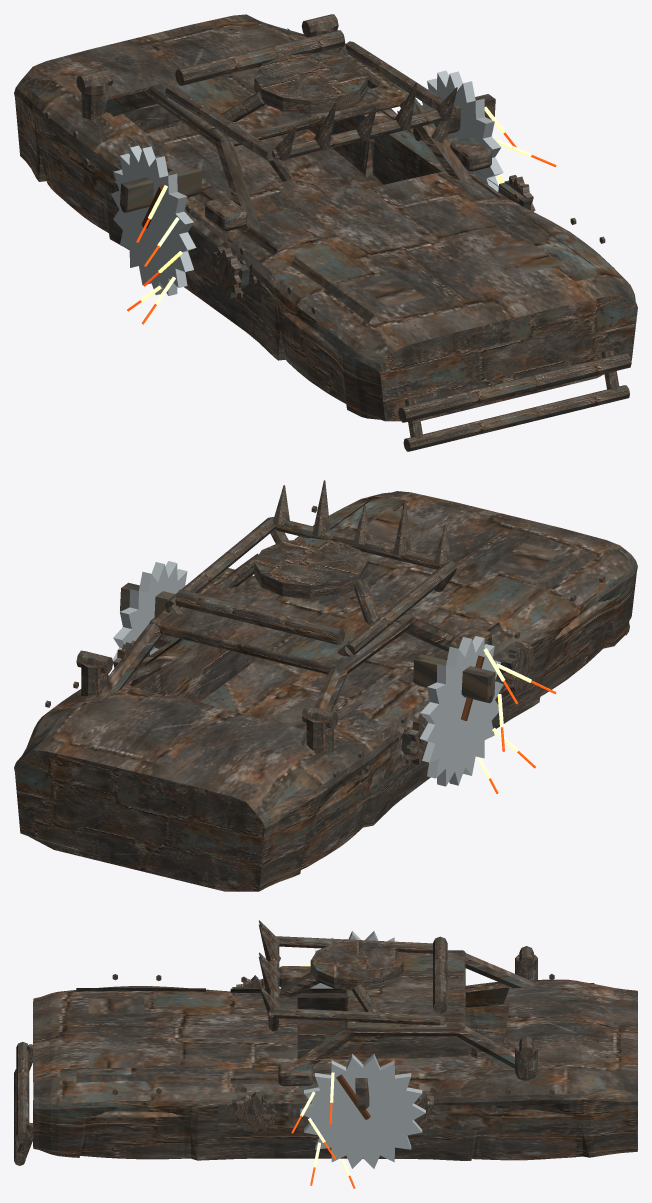
Rendered from banshee_muscle.glb.
The picture shows the model from 3 angles, top to bottom: view 1: azimuth 30°, elevation 25°; view 2: azimuth 150°, elevation 25°; view 3: azimuth 270°, elevation 25°; orthographic projection. The views are drawn at different scales.
Visible parts, largest first — view 1: kit-full-plating-painted-metal, kit-bull-bar-painted-metal, kit-sal-saw-right, kit-turret-mount-painted-metal, kit-cage-painted-metal, kit-sal-saw-left, warlord-crossbar, kit-sal-saw-mounts-painted-metal, kit-crown-painted-metal, kit-raider-painted-metal, kit-plate-2-painted-metal, kit-saw-1-guard-painted-metal (+4 smaller); view 2: kit-full-plating-painted-metal, kit-sal-saw-right, kit-turret-mount-painted-metal, kit-cage-painted-metal, warlord-crossbar, kit-sal-saw-left, kit-sal-saw-mounts-painted-metal, kit-crown-painted-metal, kit-plate-2-painted-metal, kit-stack-0-painted-metal, kit-raider-painted-metal, kit-stack-1-painted-metal (+3 smaller); view 3: kit-full-plating-painted-metal, kit-sal-saw-left, kit-turret-mount-painted-metal, kit-cage-painted-metal, kit-raider-painted-metal, kit-bull-bar-painted-metal, kit-scrapper-painted-metal, kit-plate-0-painted-metal, kit-saw-1-painted-metal, kit-crown-painted-metal, warlord-crossbar, kit-stack-1-painted-metal (+6 smaller).
Boxes of the visible parts, bbox=[...] form: kit-full-plating-painted-metal: bbox=[14, 14, 637, 421]; kit-bull-bar-painted-metal: bbox=[398, 349, 631, 451]; kit-sal-saw-right: bbox=[111, 145, 196, 295]; kit-turret-mount-painted-metal: bbox=[220, 53, 381, 122]; kit-cage-painted-metal: bbox=[165, 41, 456, 181]; kit-sal-saw-left: bbox=[422, 70, 503, 191]; warlord-crossbar: bbox=[175, 30, 345, 85]; kit-sal-saw-mounts-painted-metal: bbox=[120, 94, 495, 212]; kit-crown-painted-metal: bbox=[274, 82, 457, 160]; kit-raider-painted-metal: bbox=[83, 157, 261, 311]; kit-plate-2-painted-metal: bbox=[268, 257, 373, 359]; kit-saw-1-guard-painted-metal: bbox=[210, 246, 249, 298]; kit-full-plating-painted-metal: bbox=[14, 491, 637, 891]; kit-sal-saw-right: bbox=[420, 636, 503, 786]; kit-turret-mount-painted-metal: bbox=[214, 538, 379, 624]; kit-cage-painted-metal: bbox=[165, 517, 456, 656]; warlord-crossbar: bbox=[175, 589, 345, 644]; kit-sal-saw-left: bbox=[112, 561, 187, 663]; kit-sal-saw-mounts-painted-metal: bbox=[120, 582, 495, 703]; kit-crown-painted-metal: bbox=[273, 480, 450, 564]; kit-plate-2-painted-metal: bbox=[511, 549, 621, 650]; kit-stack-0-painted-metal: bbox=[301, 705, 338, 754]; kit-raider-painted-metal: bbox=[159, 643, 530, 799]; kit-stack-1-painted-metal: bbox=[76, 650, 113, 695]; kit-full-plating-painted-metal: bbox=[33, 950, 637, 1160]; kit-sal-saw-left: bbox=[300, 1053, 425, 1168]; kit-turret-mount-painted-metal: bbox=[310, 941, 403, 1012]; kit-cage-painted-metal: bbox=[268, 936, 445, 1031]; kit-raider-painted-metal: bbox=[218, 1103, 501, 1130]; kit-bull-bar-painted-metal: bbox=[14, 1042, 33, 1165]; kit-scrapper-painted-metal: bbox=[230, 976, 446, 1093]; kit-plate-0-painted-metal: bbox=[76, 1074, 205, 1117]; kit-saw-1-painted-metal: bbox=[232, 1092, 276, 1133]; kit-crown-painted-metal: bbox=[258, 920, 280, 1013]; warlord-crossbar: bbox=[433, 936, 447, 1013]; kit-stack-1-painted-metal: bbox=[515, 1036, 537, 1080].
Size of the model in its own units: 3.22 by 1.68 by 5.16.
Materials: 5 (1 with a texture image).
